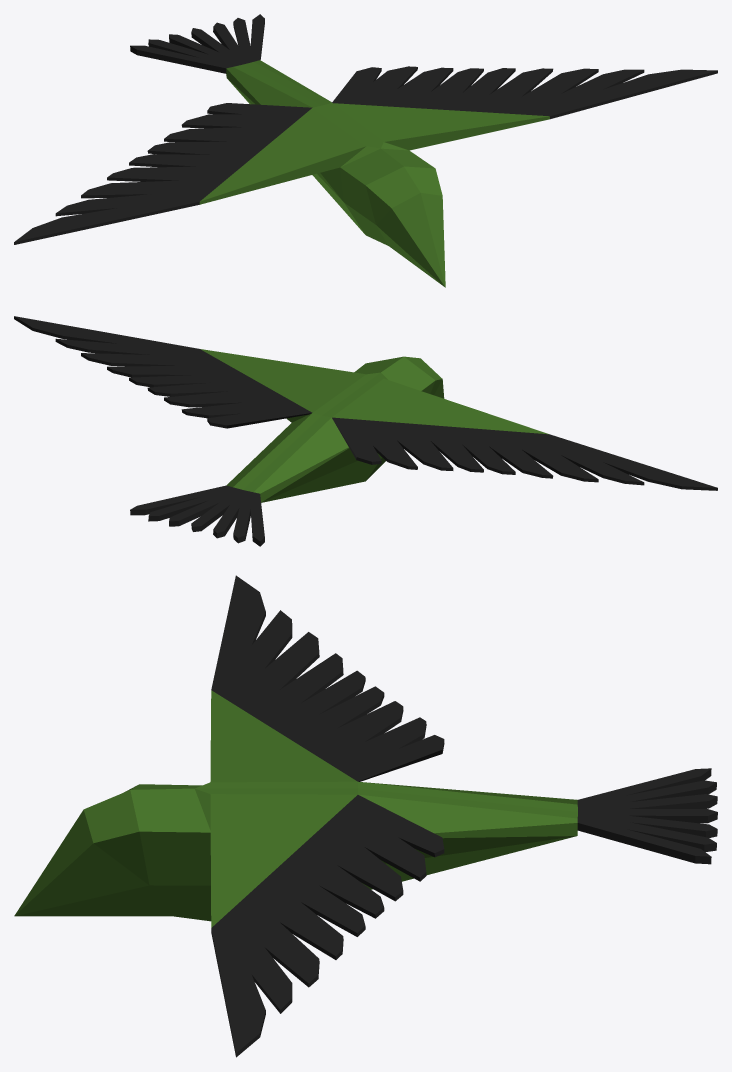
The model's file is Bird.glb.
3 views of the same model, one above another, from view 1: azimuth 30°, elevation 25°; view 2: azimuth 150°, elevation 25°; view 3: azimuth 270°, elevation 25° (orthographic). The views are drawn at different scales.
Parts seen in each view (by area): view 1: 23smolbirdFinal; view 2: 23smolbirdFinal; view 3: 23smolbirdFinal.
Boxes of the visible parts, left/top/right/bottom form: 23smolbirdFinal: left=14, top=14, right=717, bottom=287; 23smolbirdFinal: left=14, top=316, right=717, bottom=546; 23smolbirdFinal: left=14, top=575, right=717, bottom=1057.
Size of the model in its own units: 0.5807 by 0.0773 by 0.3613.
Materials: 1 (1 with a texture image).
